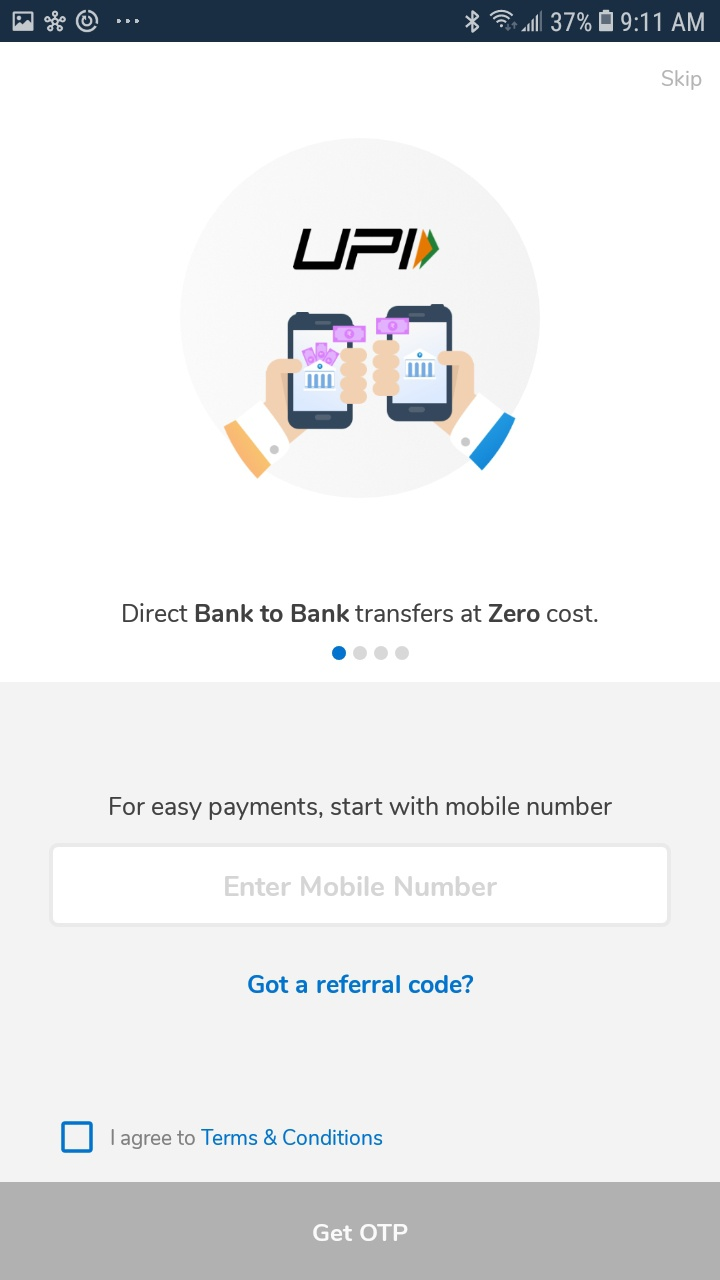CheckedTextView: (61, 1120, 383, 1154)
EditText: (49, 843, 671, 928)
Image: (180, 138, 542, 500)
PageIndicator: (332, 646, 410, 661)
Text: (111, 796, 613, 821), (124, 603, 599, 623), (225, 875, 498, 897), (111, 1128, 383, 1150), (248, 973, 474, 994), (661, 70, 702, 91)
TextButton: (1, 1182, 720, 1280)
UpperTaskBar: (1, 1, 720, 43)
